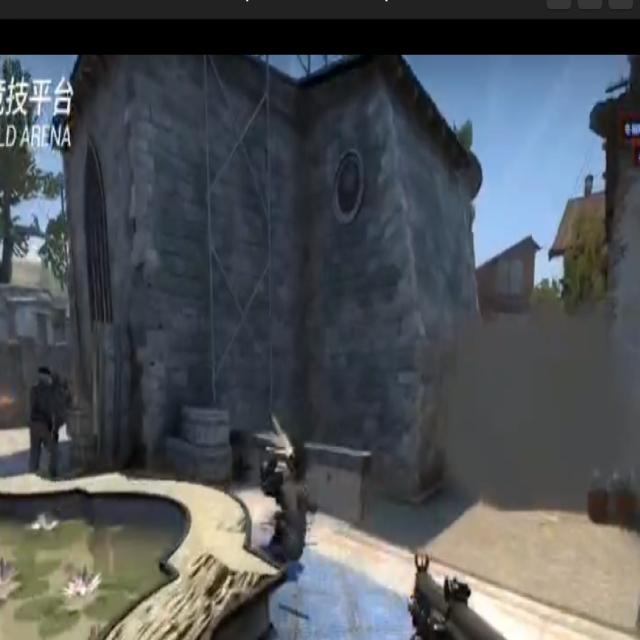person: (26, 360, 61, 485)
